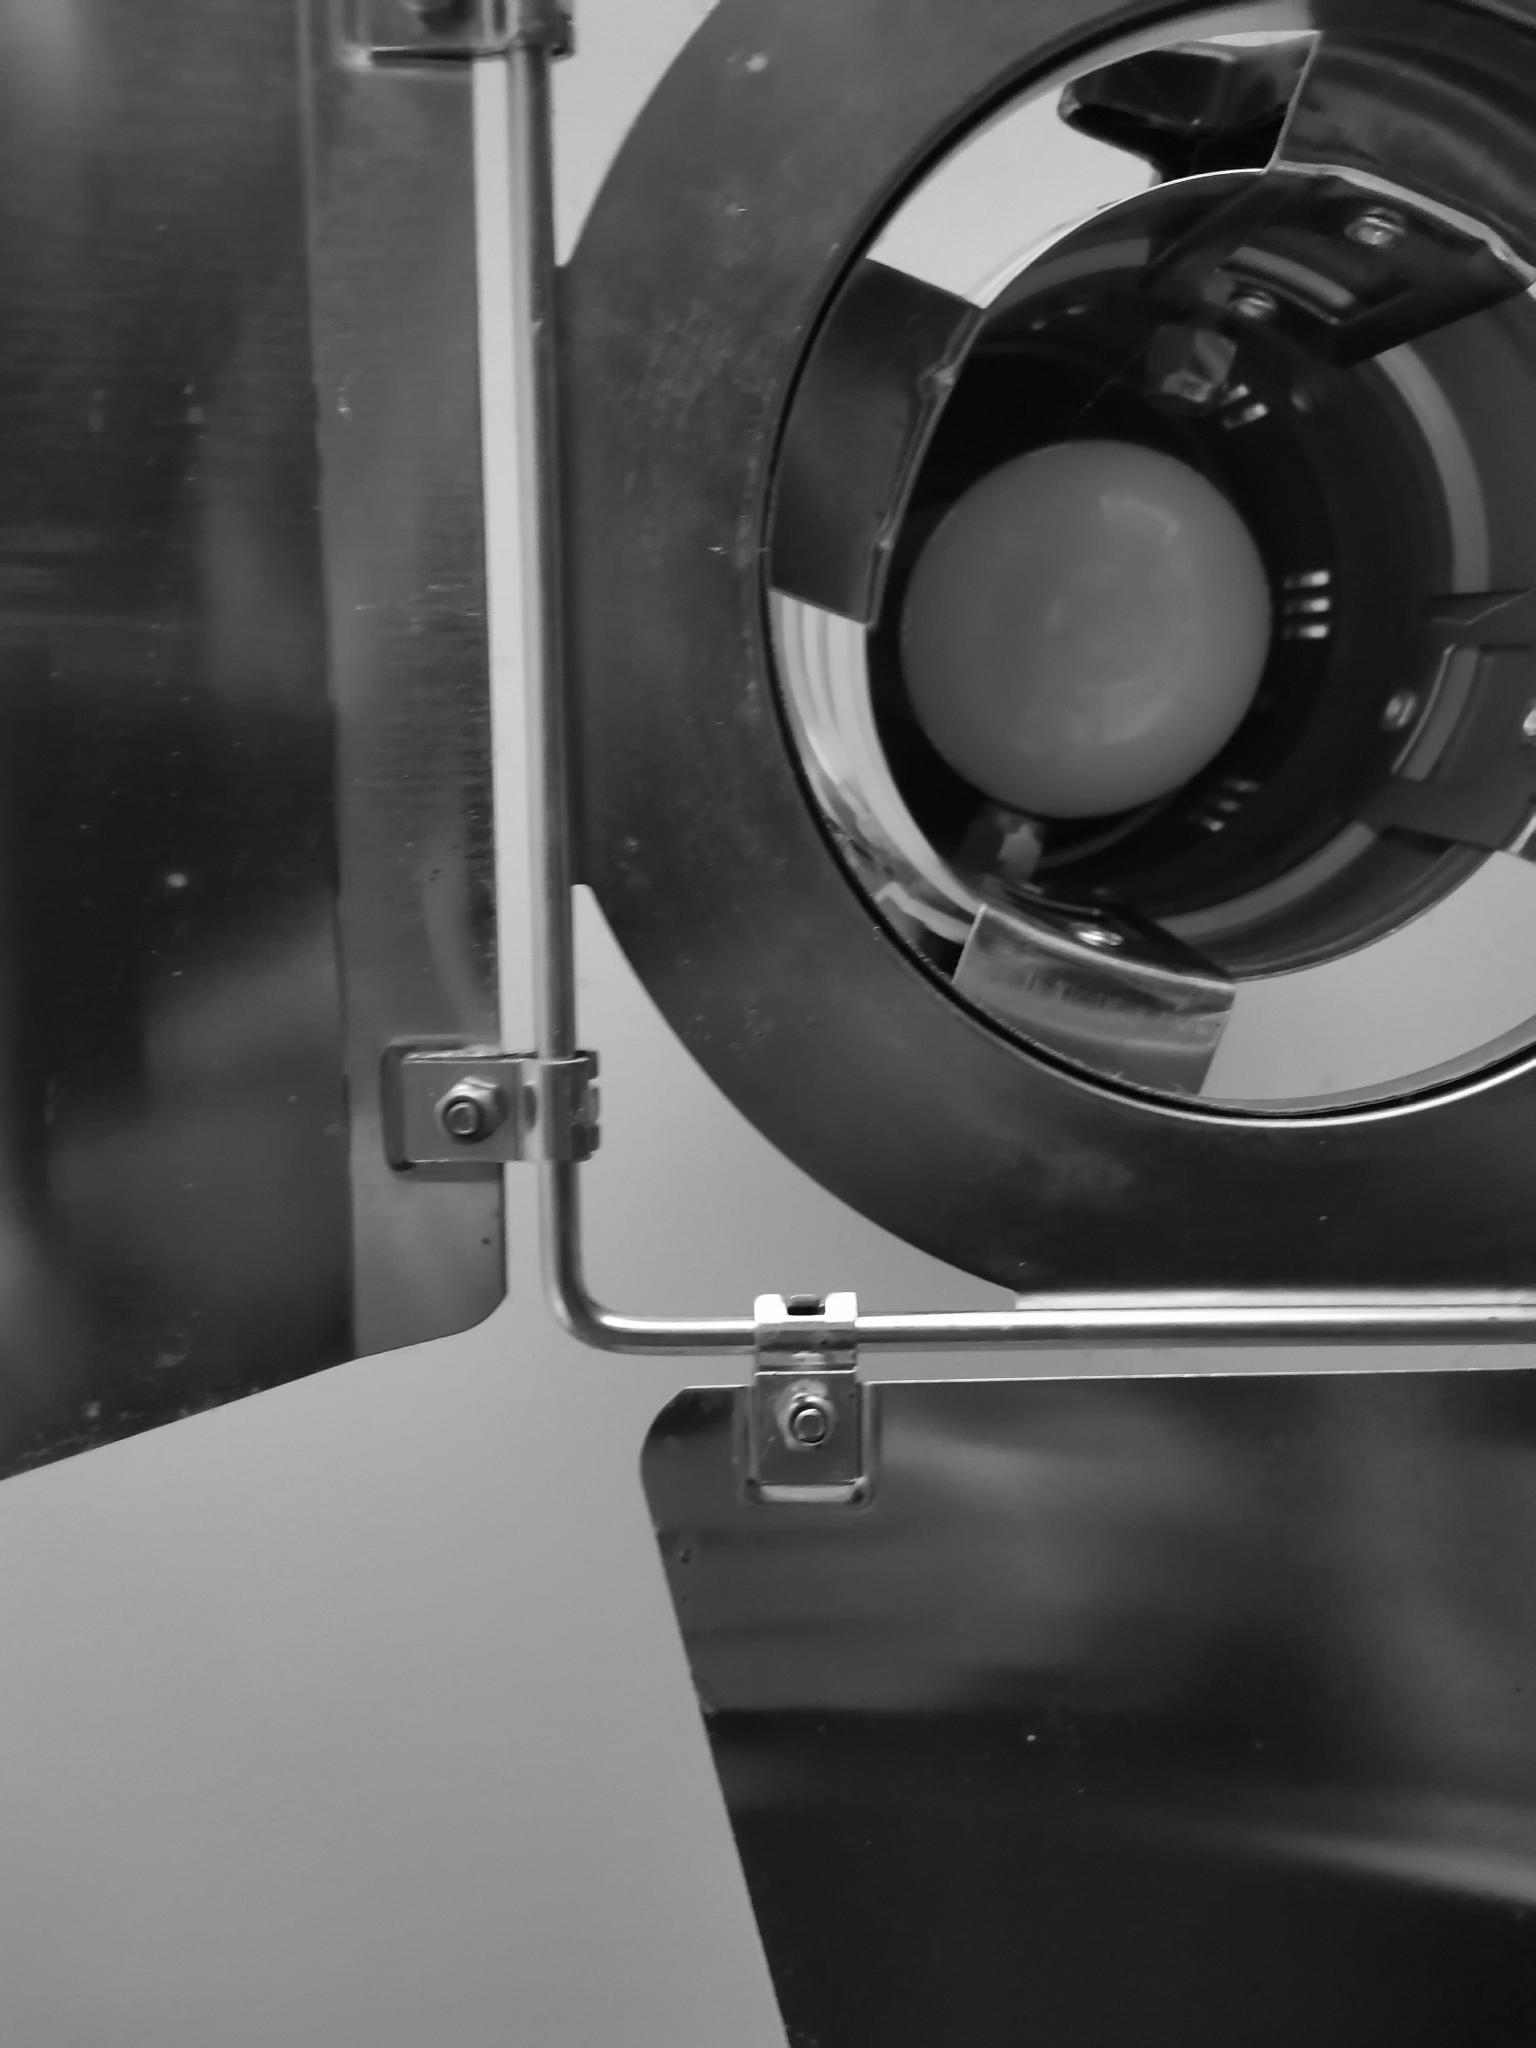hexagonal: (770, 1388, 849, 1459), (429, 1080, 508, 1150)
